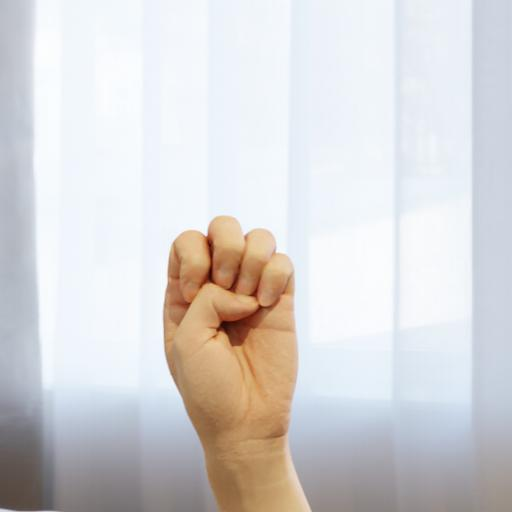E: (148, 197, 325, 512)
